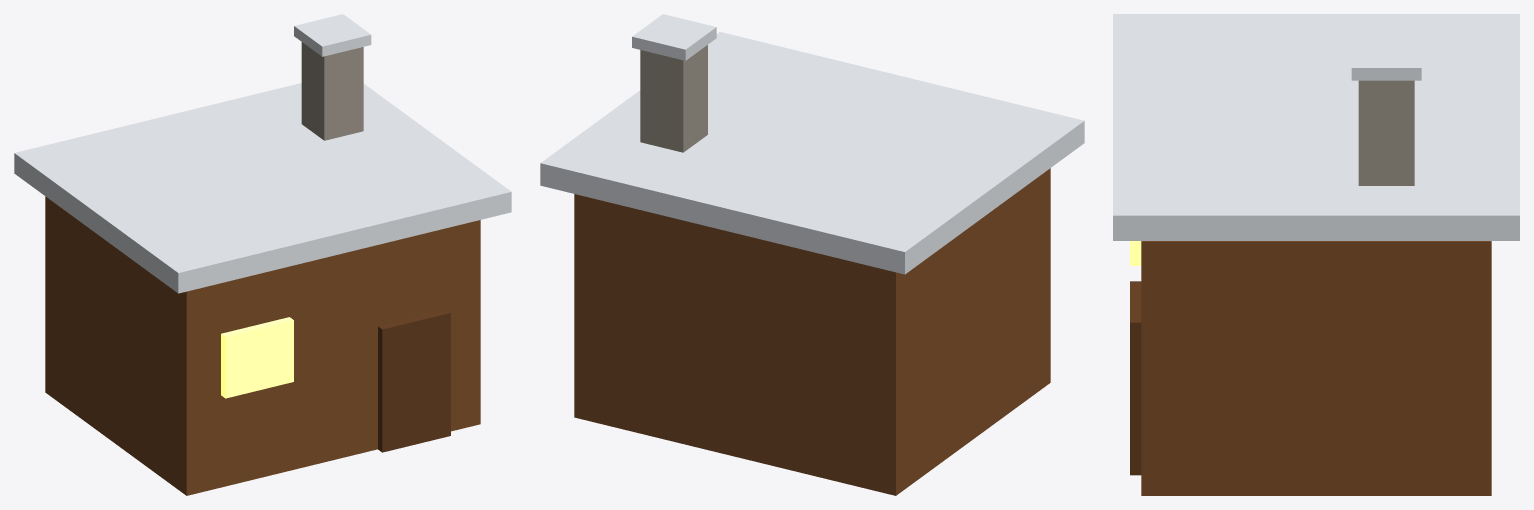
Rendered from wood_cabin.glb.
3 renders of one model, left to right at view 1: azimuth 30°, elevation 25°; view 2: azimuth 150°, elevation 25°; view 3: azimuth 270°, elevation 25°, orthographic. The views are drawn at different scales.
Parts seen in each view (by area): view 1: wood_cabin; view 2: wood_cabin; view 3: wood_cabin.
Part boxes in pixels (<box>): wood_cabin: <box>14,14,511,495</box>; wood_cabin: <box>540,14,1084,495</box>; wood_cabin: <box>1113,14,1519,495</box>.
Bounding box in the file's own units: 3.4 × 3.25 × 2.9.
